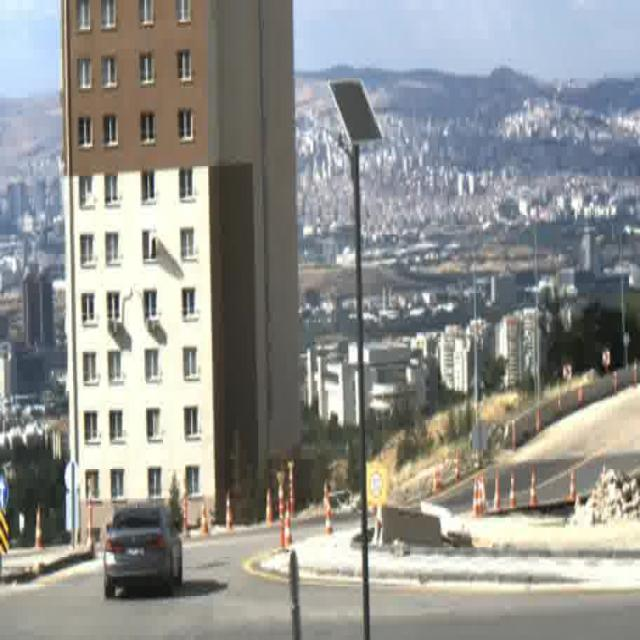Car: (104, 504, 185, 601)
